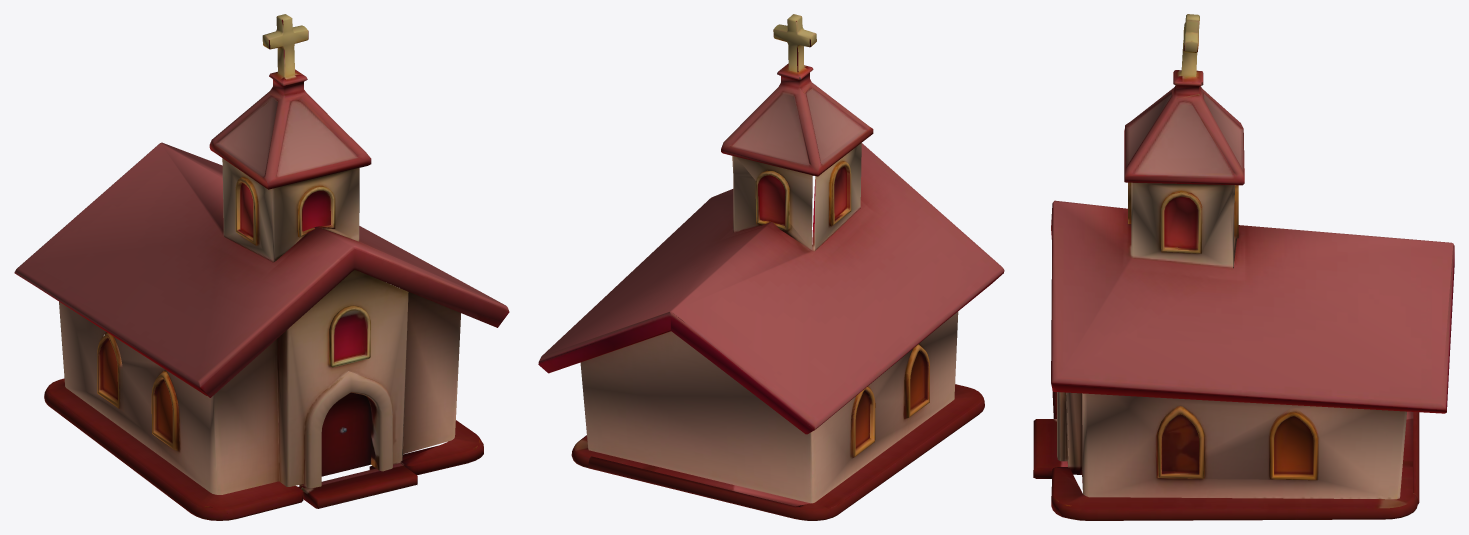
The model's file is gereja.glb.
3 renders of one model, left to right at view 1: azimuth 30°, elevation 25°; view 2: azimuth 150°, elevation 25°; view 3: azimuth 270°, elevation 25°, orthographic. The views are drawn at different scales.
Parts seen in each view (by area): view 1: tripo_node_458c0969; view 2: tripo_node_458c0969; view 3: tripo_node_458c0969.
Part boxes in pixels (x1=…): tripo_node_458c0969: x1=14, y1=14, x2=509, y2=520; tripo_node_458c0969: x1=538, y1=14, x2=1004, y2=520; tripo_node_458c0969: x1=1033, y1=14, x2=1454, y2=520.
Bounding box in the file's own units: 0.7615 × 1 × 0.8787.
1 material, 1 textured.
